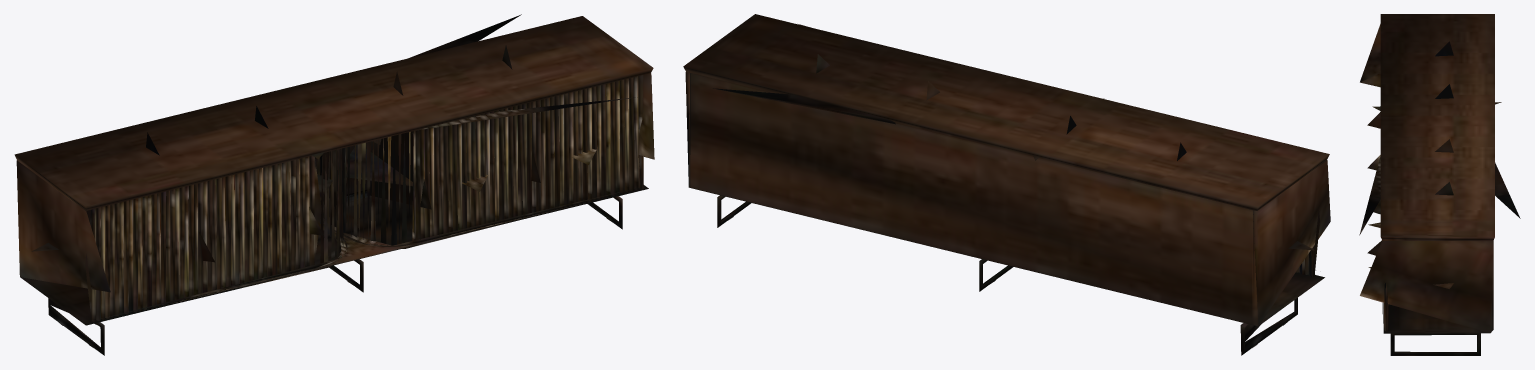
The model's file is mcabinet.glb.
The picture shows the model from 3 angles, left to right: view 1: azimuth 30°, elevation 25°; view 2: azimuth 150°, elevation 25°; view 3: azimuth 270°, elevation 25°; orthographic projection. The views are drawn at different scales.
Visible parts, largest first — view 1: lo; view 2: lo; view 3: lo.
Part boxes in pixels (x1,y1,x2,y2): lo: (14, 14, 654, 355); lo: (683, 14, 1330, 355); lo: (1359, 14, 1520, 355).
Bounding box in the file's own units: 2.61 × 0.7333 × 0.7501.
Materials: 1 (1 with a texture image).
